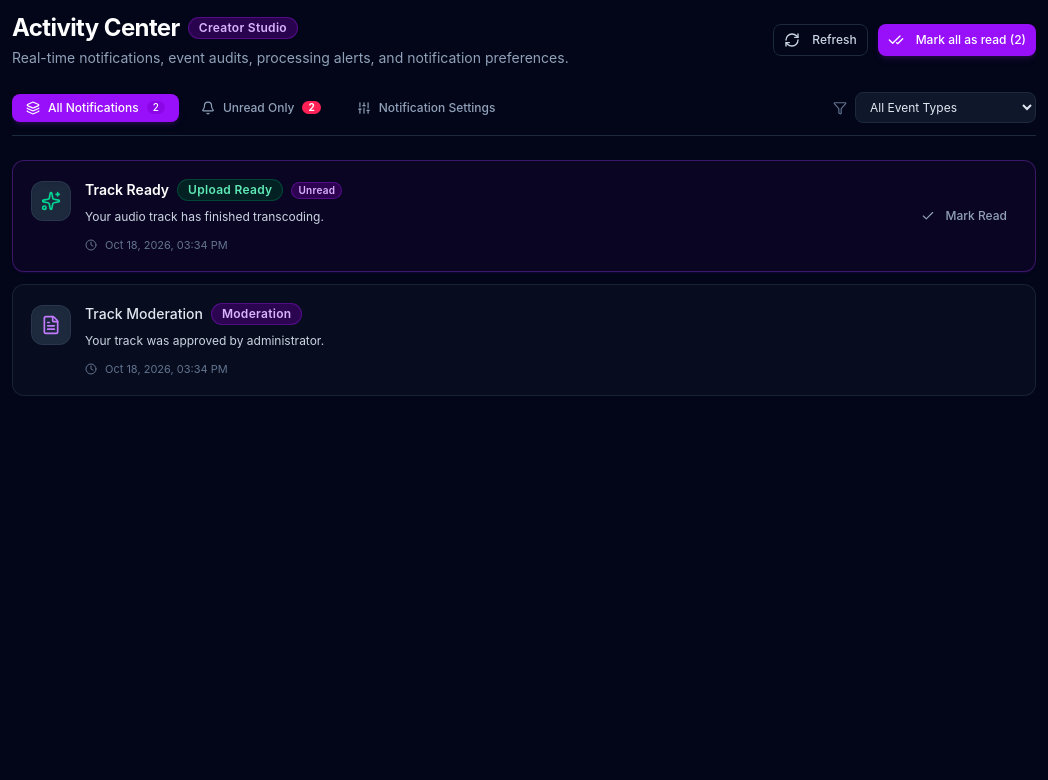
Test: Notifications & Activity Center Components › renders ActivityCenterView with tabs and notification items
Expected: the heading "Activity Center" is shown, [12,12,180,44]
Expected: the text "All Notifications" is shown, [48,100,139,116]
// Switch to settings tab
Click the button "Notification Settings": (426, 108) [343,94,510,122]
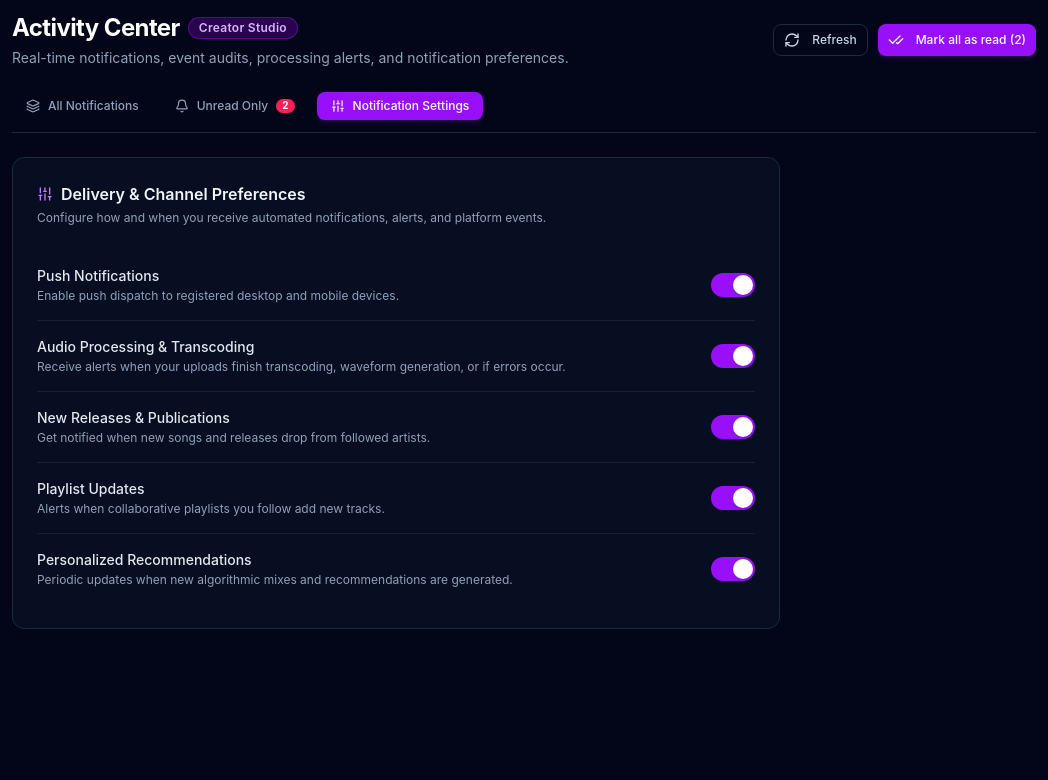
Expected: the heading "Delivery & Channel Preferences" is shown, [37,184,306,204]
Expected: the heading "Audio Processing & Transcoding" is shown, [37,338,254,355]
Expected: the heading "Personalized Recommendations" is shown, [37,551,252,568]
